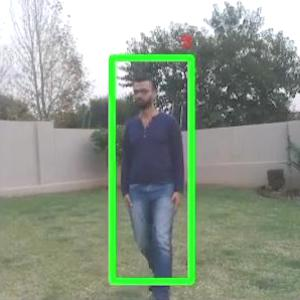follow: (111, 50, 192, 299)
